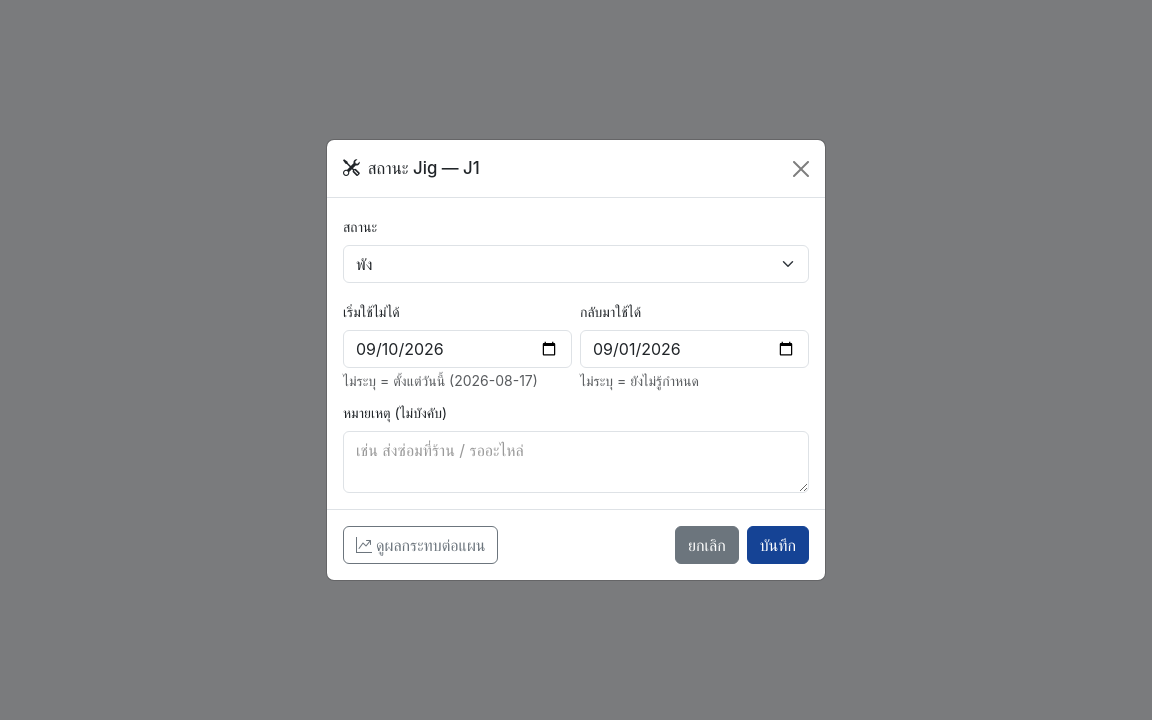
Scenario: ช่วงวันกลับหัวถูกกันไว้ที่ฟอร์ม ไม่ยิง API
Click the button "บันทึก" at [778, 545], box top-left (747, 526), bottom-right (809, 564)
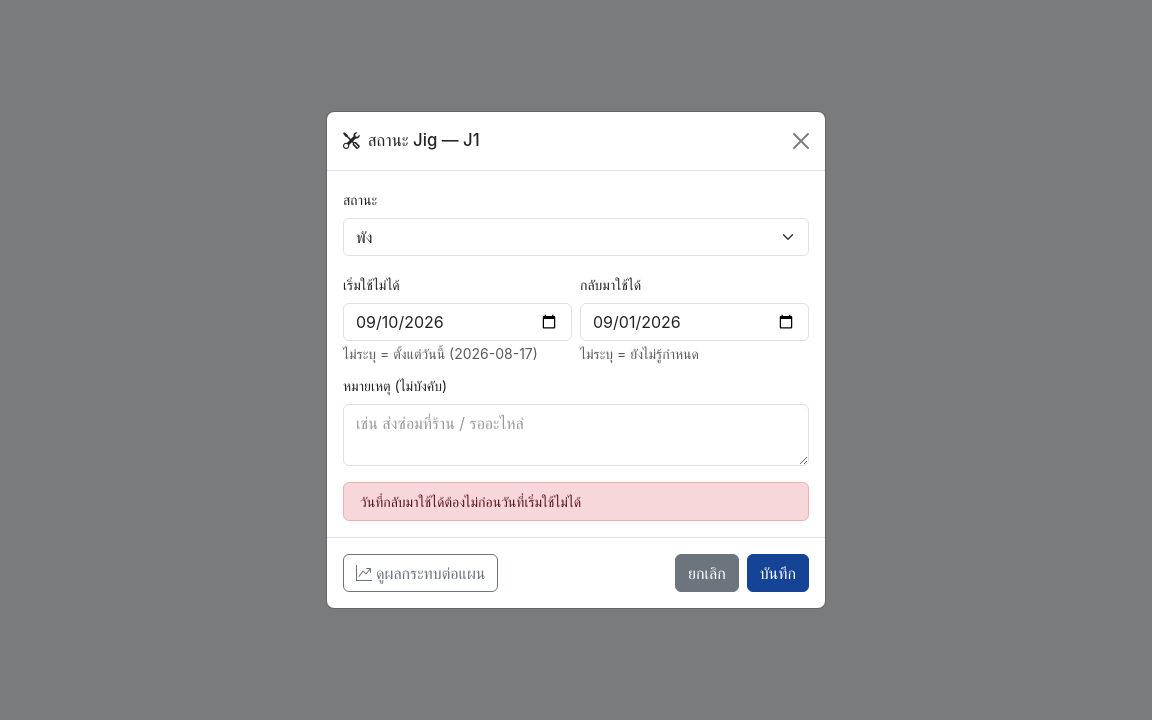
Expected: the text "วันที่กลับมาใช้ได้ต้องไม่ก่อนวันที่เริ่มใช้ไม่ได้" is shown, top-left (343, 482), bottom-right (809, 521)
